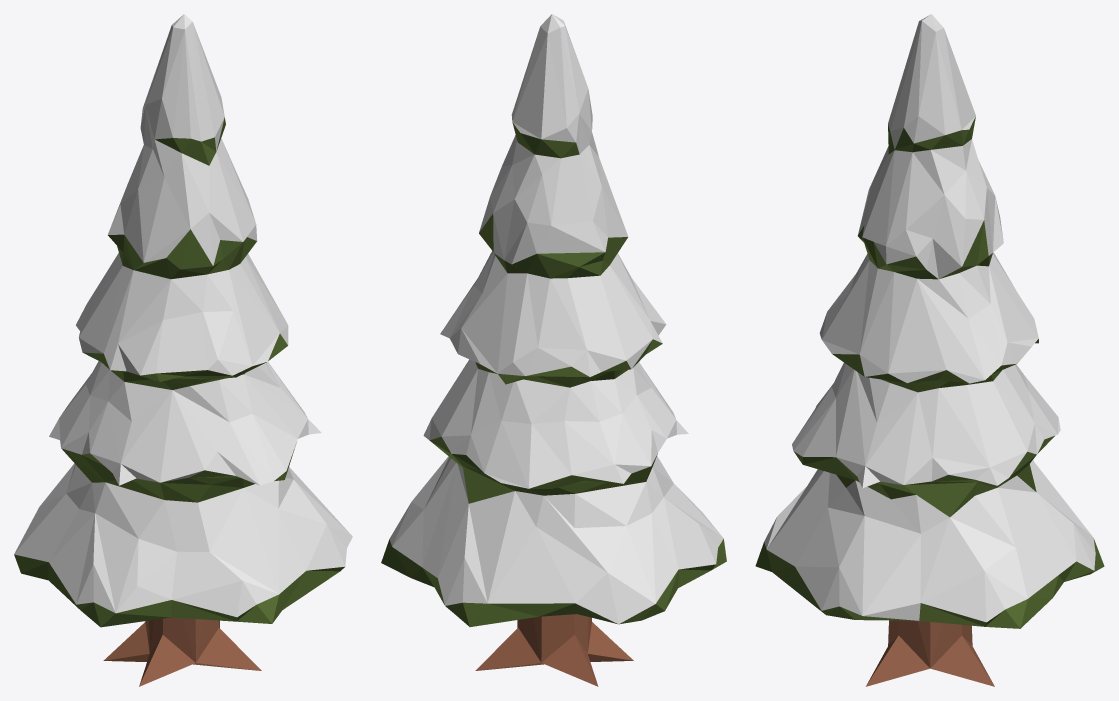
The model's file is LightVegetationDecorationLargeSnowCovered1.fbx.
3 views of the same model, side by side, from view 1: azimuth 30°, elevation 25°; view 2: azimuth 150°, elevation 25°; view 3: azimuth 270°, elevation 25° (orthographic).
Visible parts, largest first — view 1: LightVegetationDecorationLargeSnowCovered1; view 2: LightVegetationDecorationLargeSnowCovered1; view 3: LightVegetationDecorationLargeSnowCovered1.
Boxes of the visible parts, x1,y1,x2,y2 form: LightVegetationDecorationLargeSnowCovered1: (14, 14, 352, 686); LightVegetationDecorationLargeSnowCovered1: (381, 14, 726, 686); LightVegetationDecorationLargeSnowCovered1: (755, 14, 1104, 686).
Size of the model in its own units: 387 by 878 by 425.
